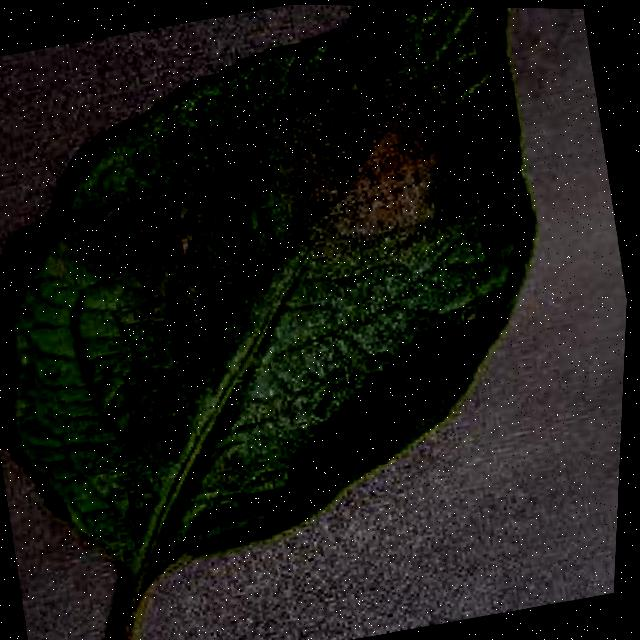Late_blight: (249, 47, 489, 273), (68, 170, 244, 291)
